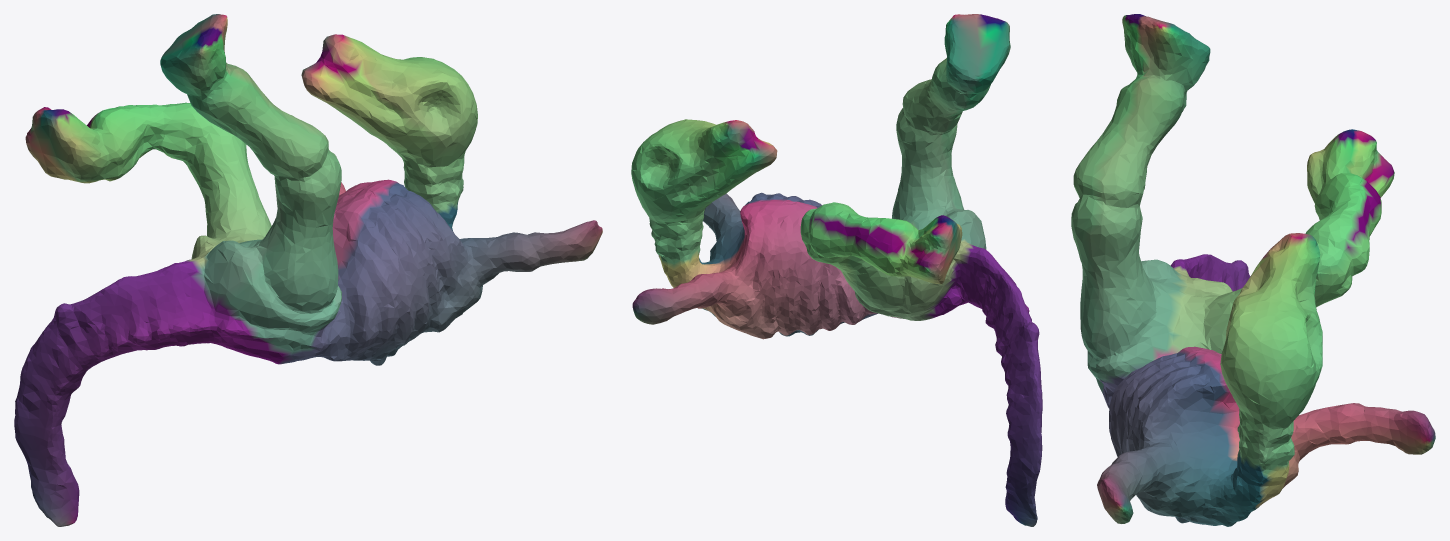
File: dino_skel-10.off.obj
3 views of the same model, side by side, from view 1: azimuth 30°, elevation 25°; view 2: azimuth 150°, elevation 25°; view 3: azimuth 270°, elevation 25° (orthographic). The views are drawn at different scales.
Bounding box in the file's own units: 1.36 × 1.29 × 0.8022.
